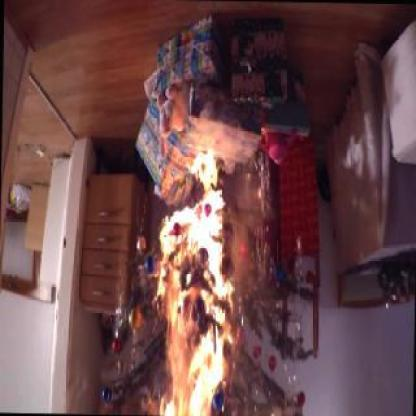Fire: (153, 153, 231, 415)
